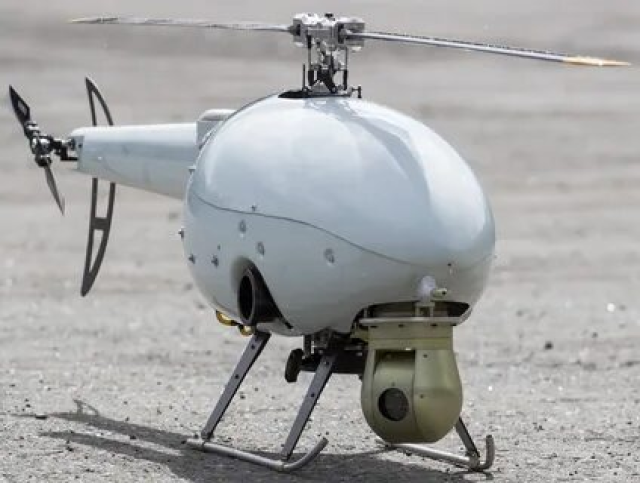military drone: (8, 11, 631, 472)
